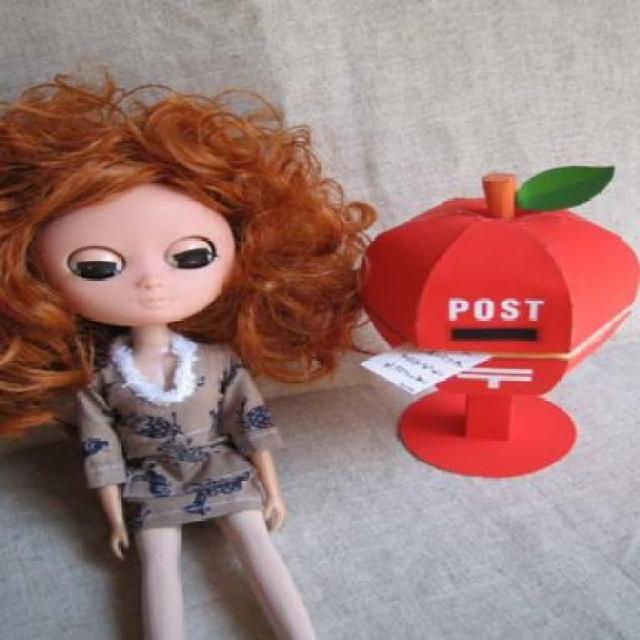Apple pie: (356, 158, 638, 476)
